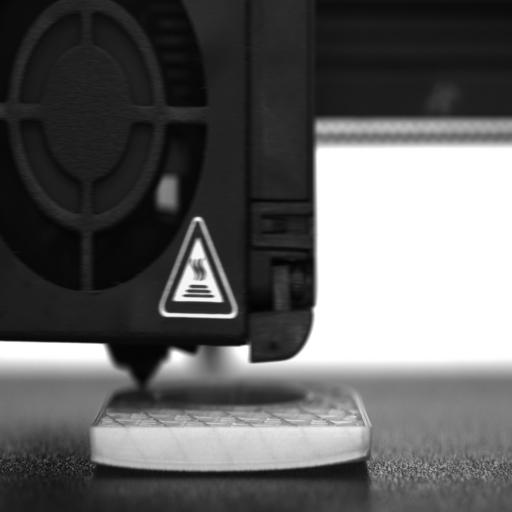warp: (89, 446, 363, 473)
